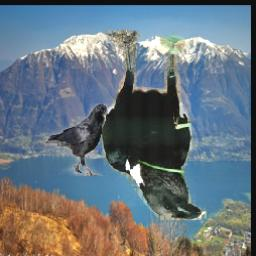Crow: (102, 30, 207, 220), (44, 104, 109, 177)
